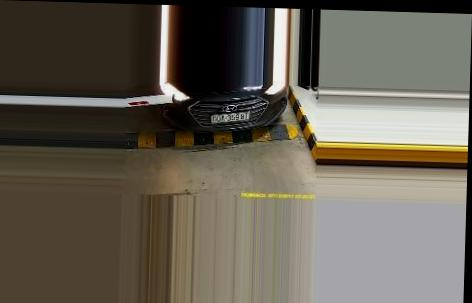License_Plate: (210, 108, 255, 125)
